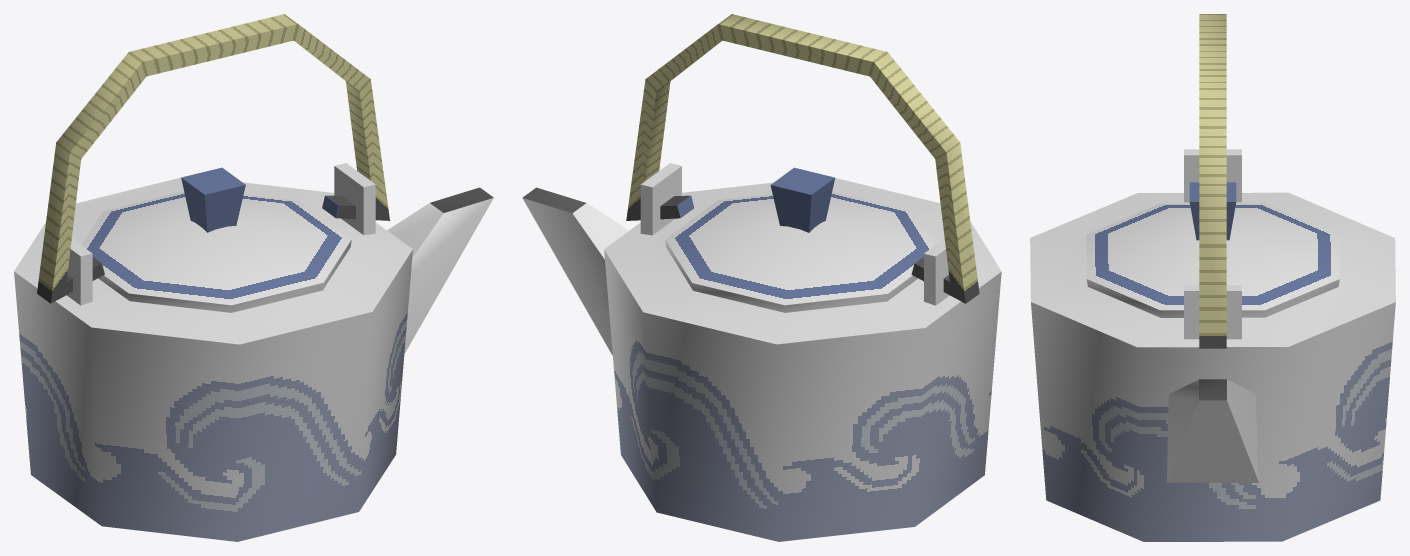
Rendered from 0357_Teapot.glb.
The picture shows the model from 3 angles, left to right: view 1: azimuth 30°, elevation 25°; view 2: azimuth 150°, elevation 25°; view 3: azimuth 270°, elevation 25°; orthographic projection.
Parts seen in each view (by area): view 1: part_0; view 2: part_0; view 3: part_0.
Boxes of the visible parts, x1,y1,x2,y2 form: part_0: [14, 14, 493, 541]; part_0: [522, 14, 1001, 541]; part_0: [1030, 14, 1395, 541].
Bounding box in the file's own units: 0.1387 × 0.1277 × 0.1008.
1 material, 1 textured.
